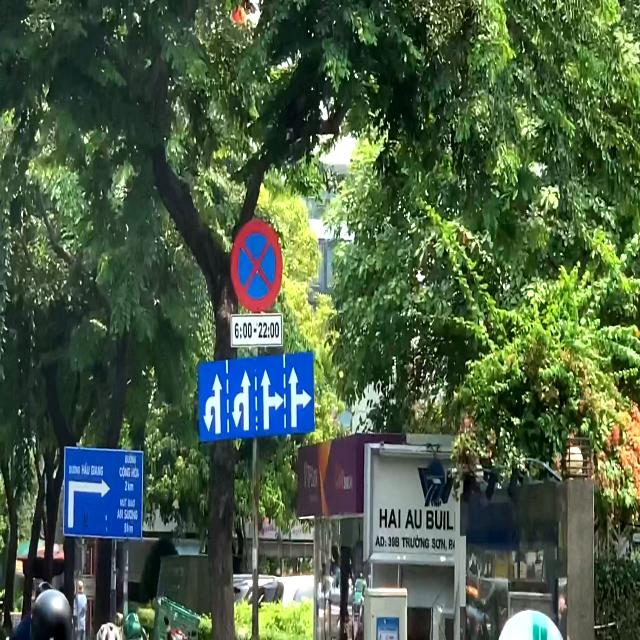P.130: (230, 219, 283, 312)
